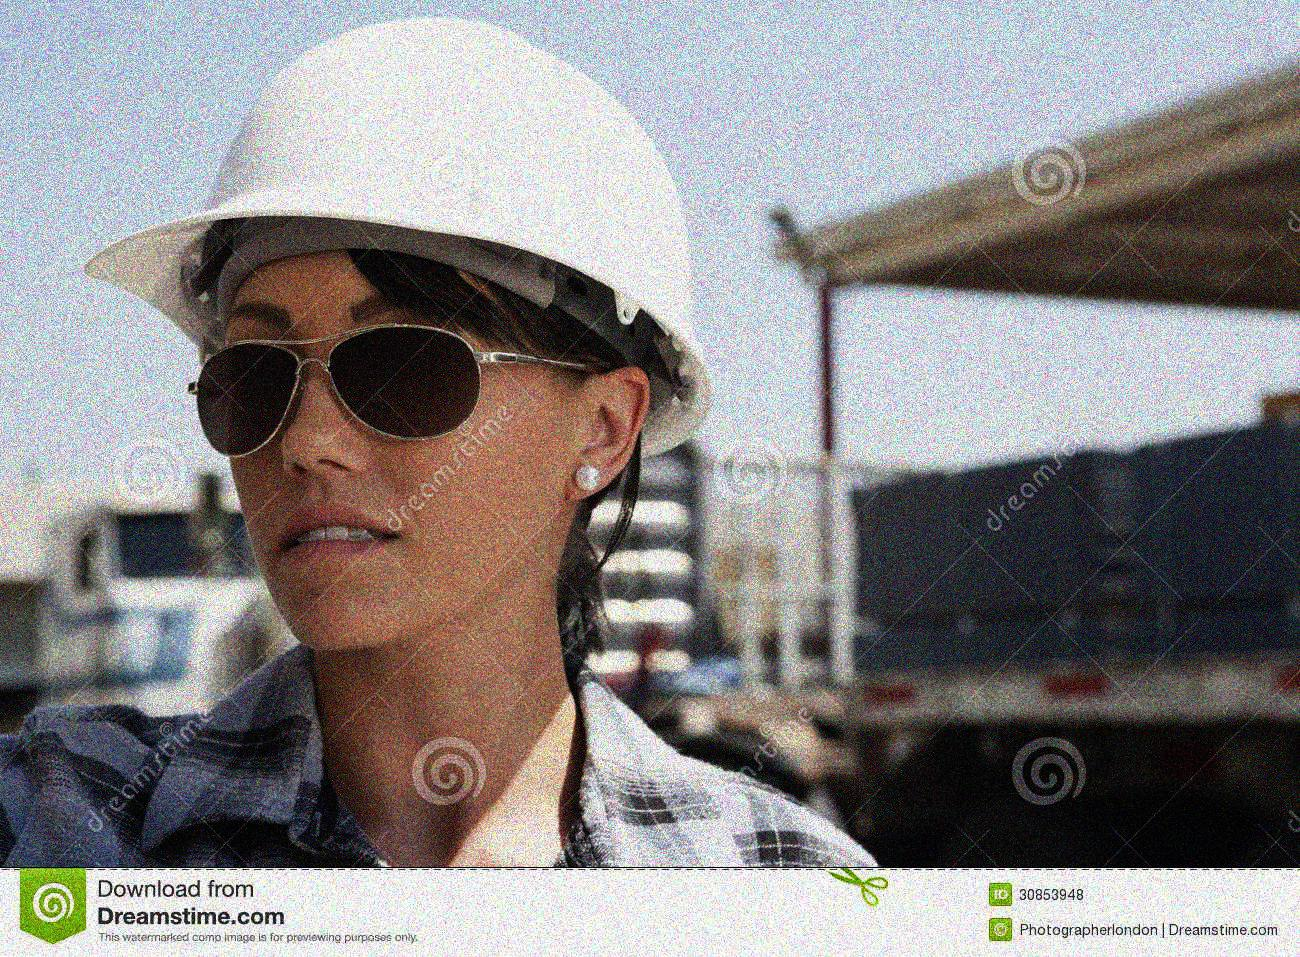helmet: (91, 14, 718, 666)
